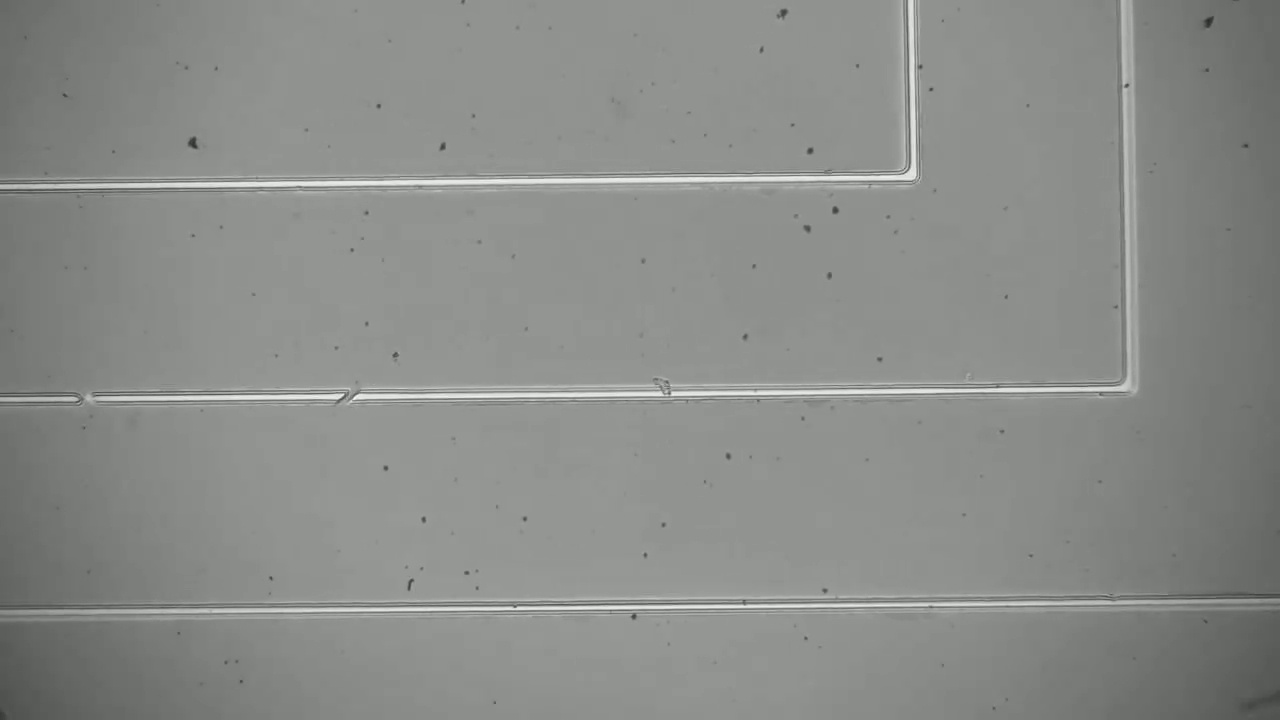open: (61, 375, 111, 422), (325, 374, 369, 416)
stains_enbedded: (639, 367, 685, 410)
